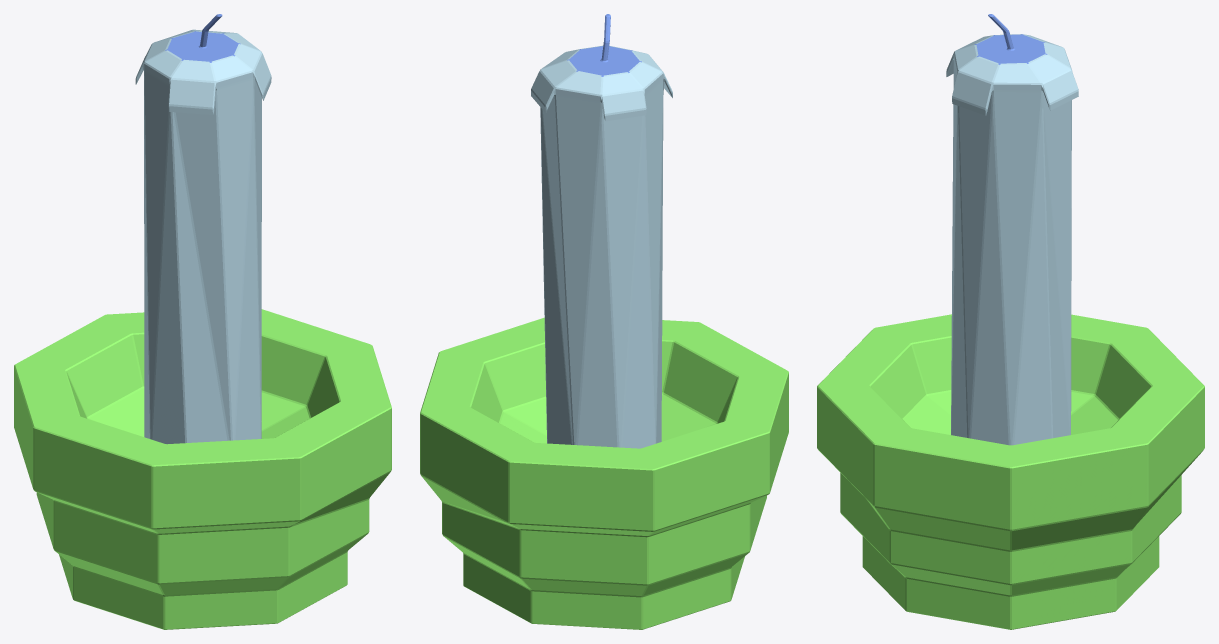
File: Candle 1.fbx
3 renders of one model, left to right at view 1: azimuth 30°, elevation 25°; view 2: azimuth 150°, elevation 25°; view 3: azimuth 270°, elevation 25°, orthographic. The views are drawn at different scales.
Parts seen in each view (by area): view 1: Candle 1; view 2: Candle 1; view 3: Candle 1.
Boxes of the visible parts, x1,y1,x2,y2 form: Candle 1: [14, 14, 391, 629]; Candle 1: [420, 14, 788, 629]; Candle 1: [817, 14, 1204, 629].
Bounding box in the file's own units: 66.44 × 105 × 66.44.
